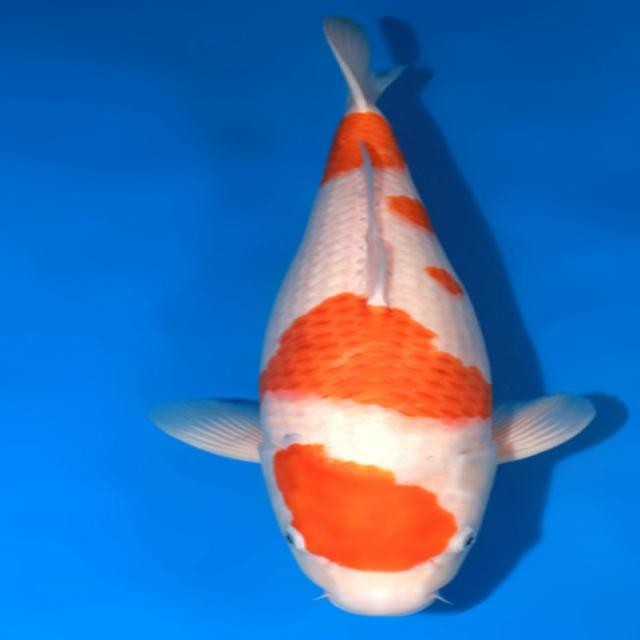Kohaku: (147, 13, 596, 617)
